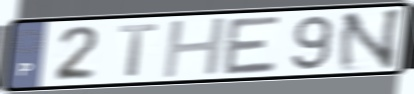2: (54, 24, 101, 83)
9: (287, 14, 337, 72)
E: (220, 14, 284, 78)
H: (159, 15, 230, 81)
N: (334, 6, 407, 74)
T: (116, 21, 161, 79)
